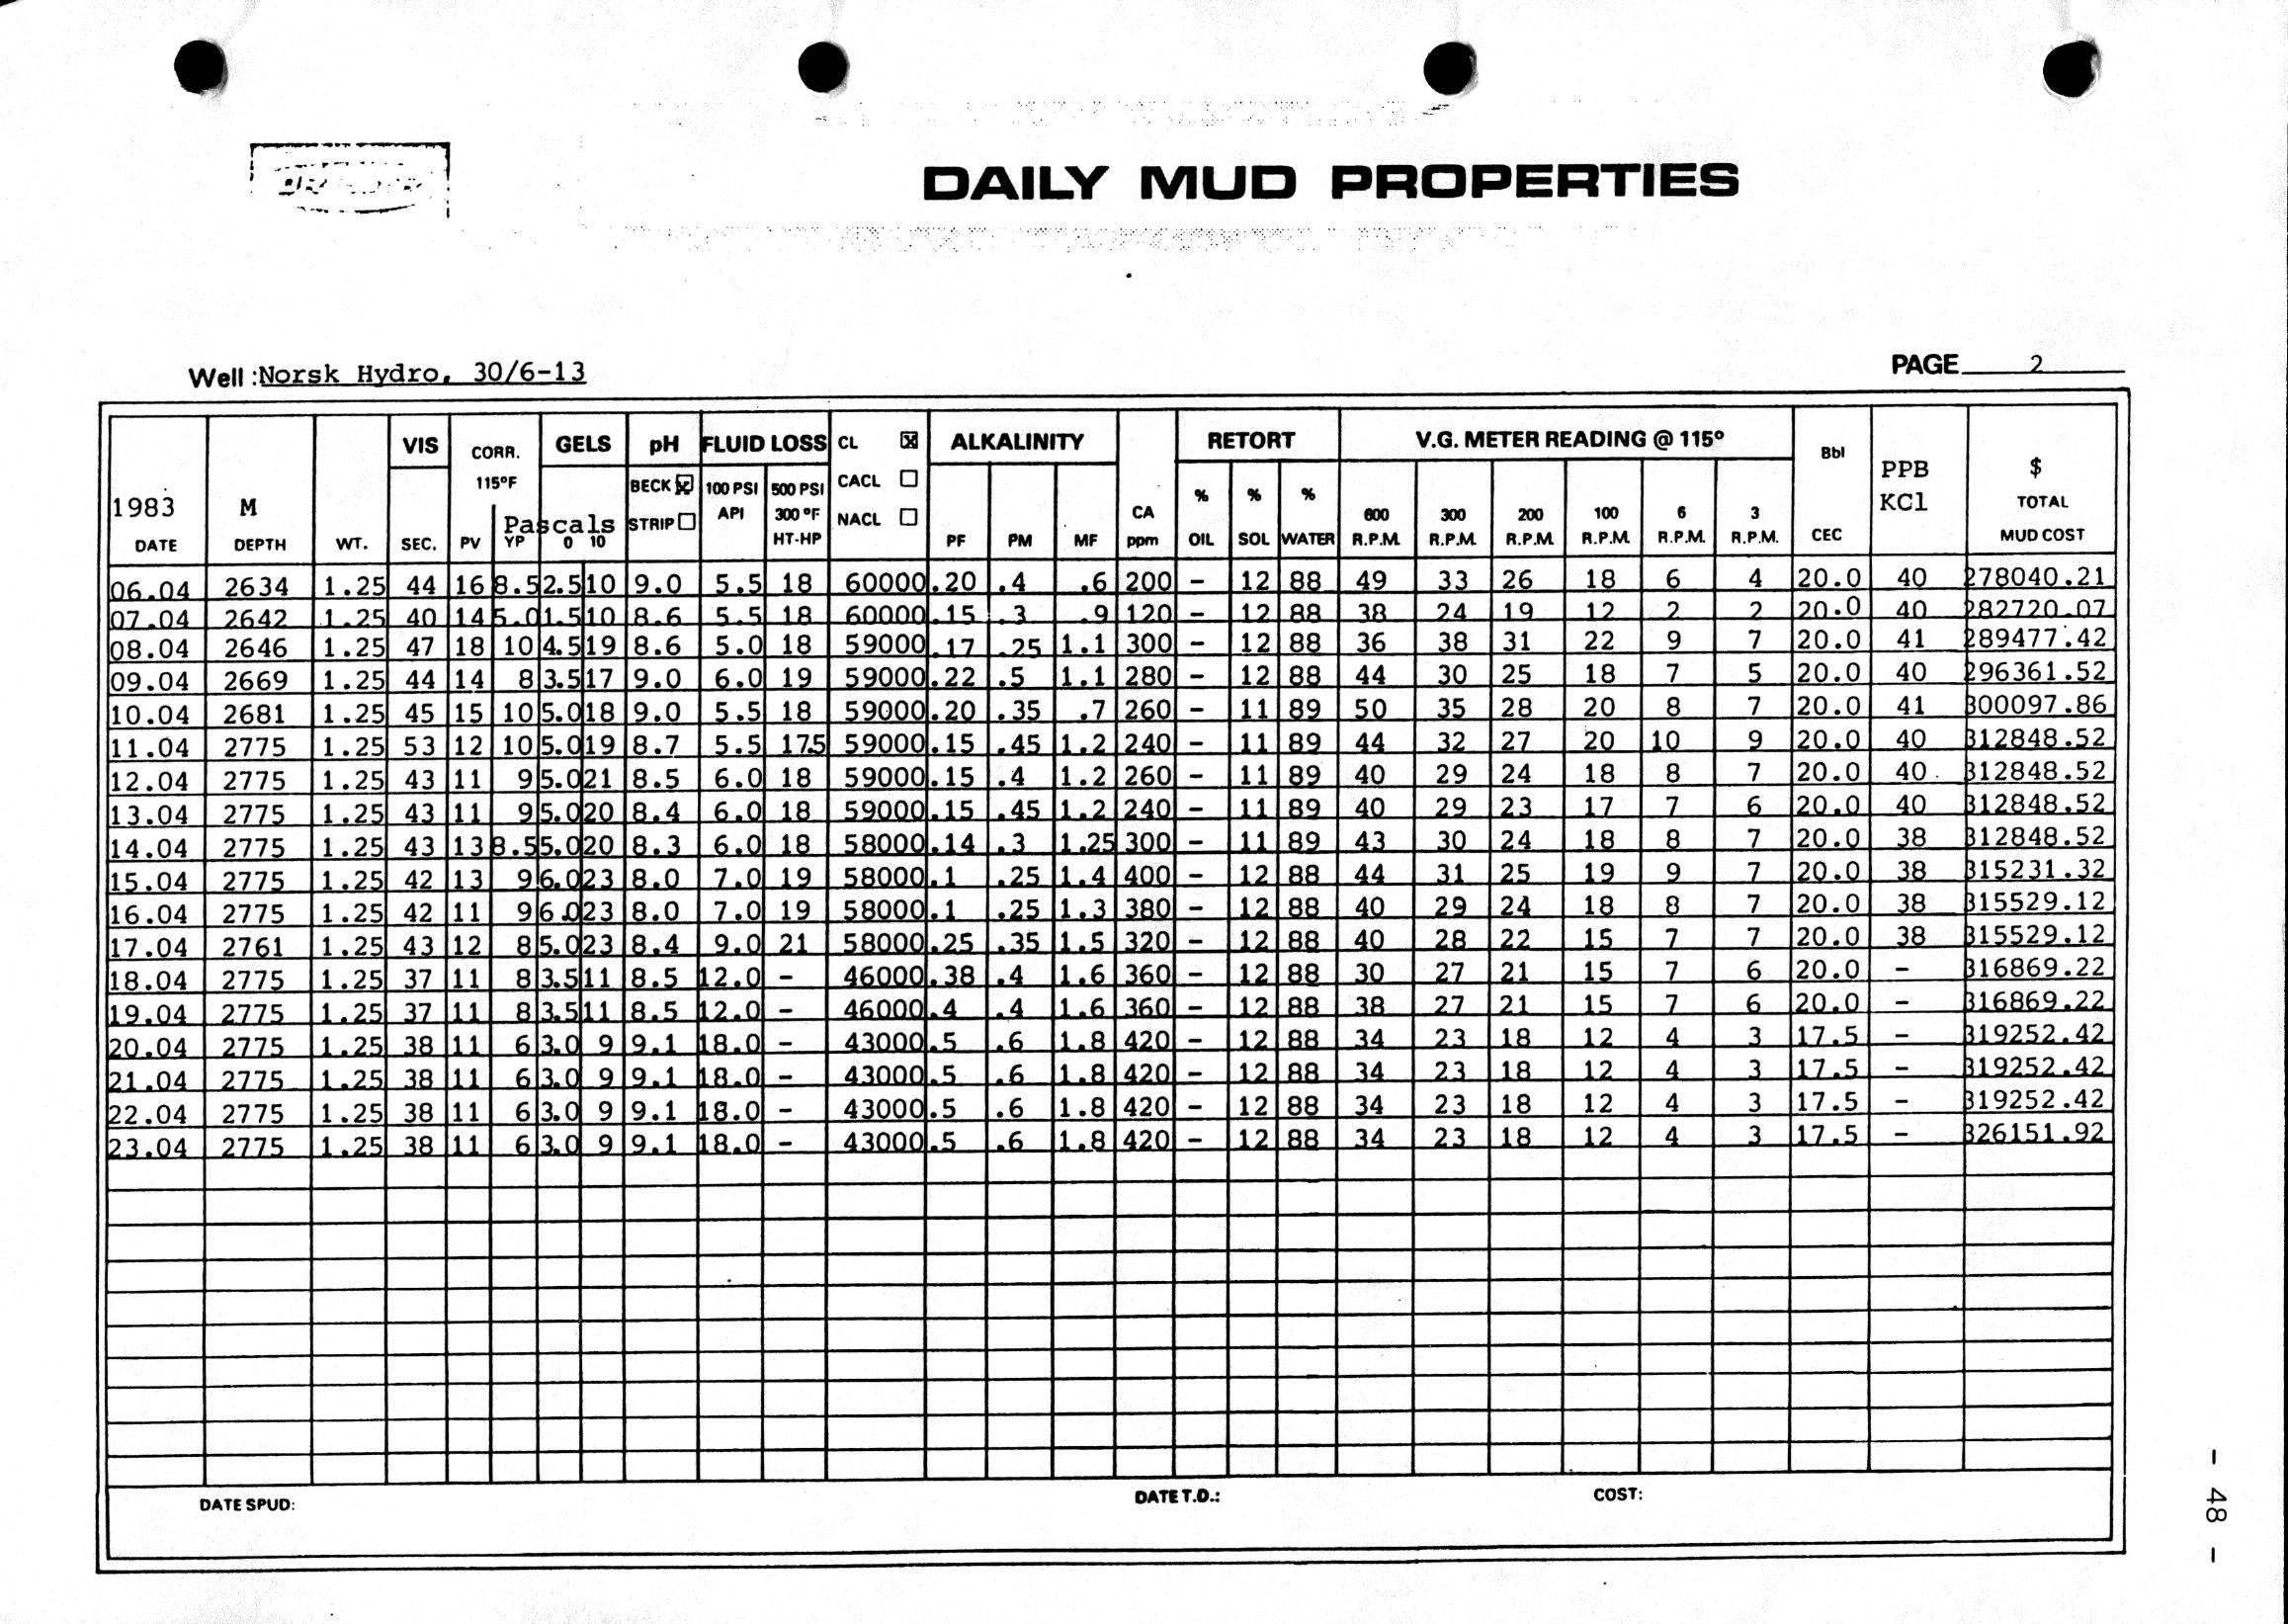table: (100, 401, 2119, 1527)
text: (910, 160, 1764, 211), (185, 364, 587, 392)
undefined: (216, 123, 503, 248)
